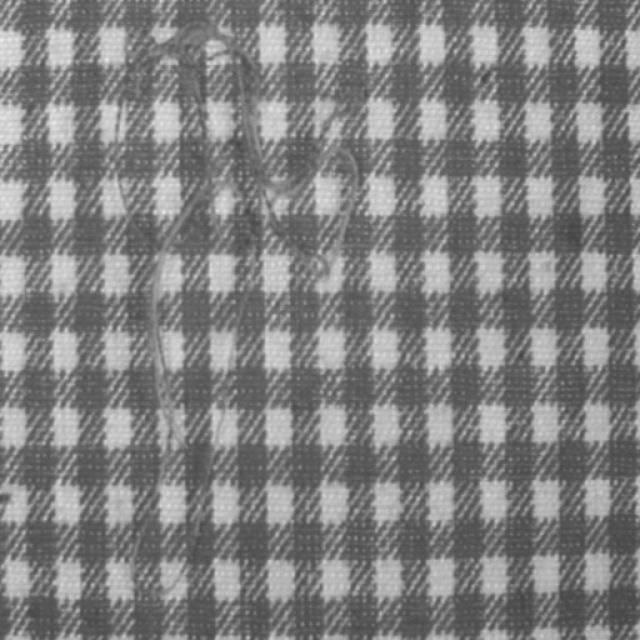Foreign-Body-Defect: (145, 24, 358, 600), (96, 68, 146, 220)
